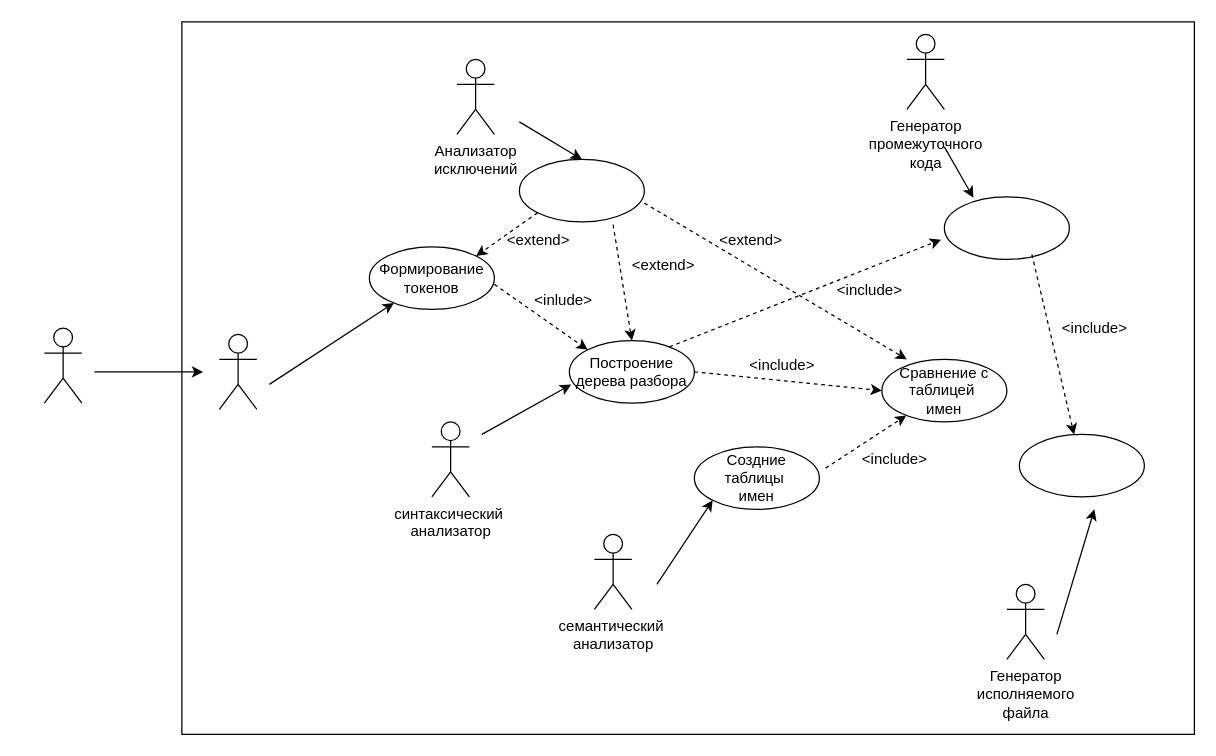
Image size: 1216x756. Some labels were removed from this diagram. Here are the shapes that lost their labels. From the top down, the centre of each, then its label:
At pixel 581 190: "Ошибка".
At pixel 1006 227: "Генерация промежуточного кода".
At pixel 62 365: "компилятор".
At pixel 237 371: "лексический анализатор".
At pixel 1081 465: "Перевод в 16 команды".
